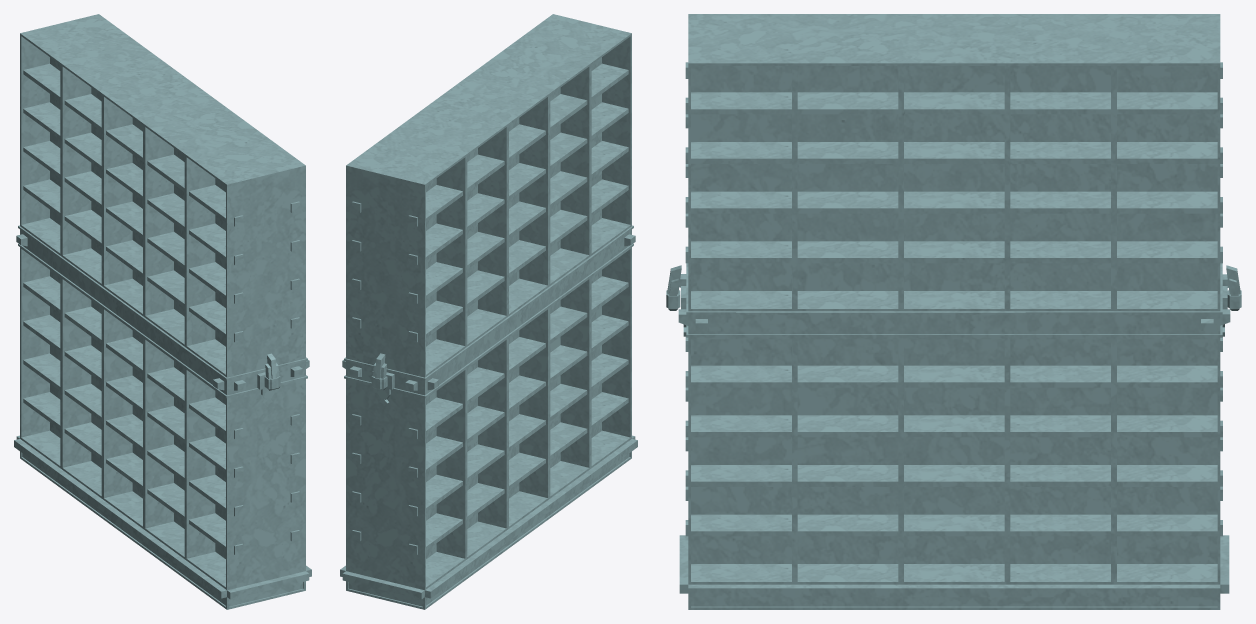
File: BookcaseProjected.FBX
The picture shows the model from 3 angles, left to right: view 1: azimuth 30°, elevation 25°; view 2: azimuth 150°, elevation 25°; view 3: azimuth 270°, elevation 25°; orthographic projection. The views are drawn at different scales.
Visible parts, largest first — view 1: BookCase002; view 2: BookCase002; view 3: BookCase002.
Part boxes in pixels (<box>): BookCase002: <box>14,14,311,609</box>; BookCase002: <box>340,14,637,609</box>; BookCase002: <box>666,14,1241,609</box>.
Bounding box in the file's own units: 88.41 × 390 × 373.
Materials: 1 (1 with a texture image).
